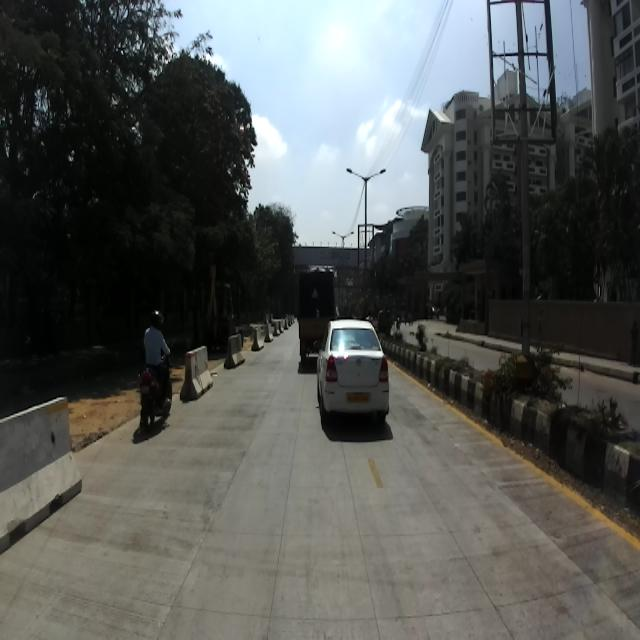barrier ahead at: (182, 342, 216, 401)
car ahead at: (318, 321, 390, 432)
